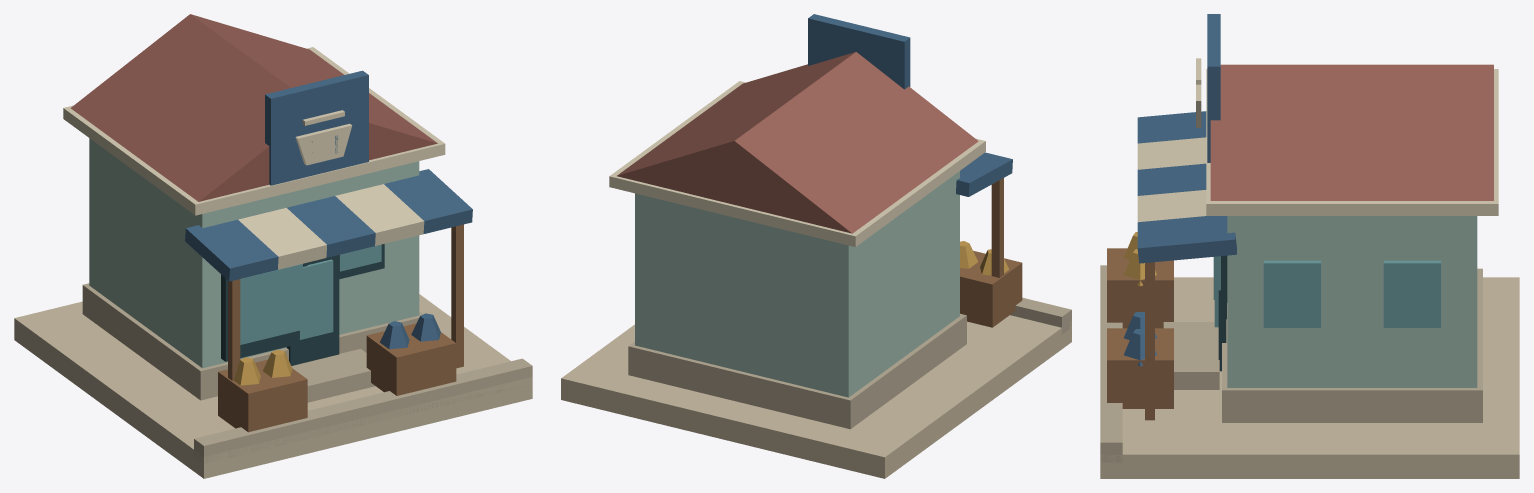
Rendered from grocery-seabreeze-complete.glb.
3 renders of one model, left to right at view 1: azimuth 30°, elevation 25°; view 2: azimuth 150°, elevation 25°; view 3: azimuth 270°, elevation 25°, orthographic. The views are drawn at different scales.
Visible parts, largest first — view 1: grocery; view 2: grocery; view 3: grocery.
Part boxes in pixels (<box>): grocery: <box>14,14,532,478</box>; grocery: <box>561,14,1071,478</box>; grocery: <box>1100,14,1519,478</box>.
Size of the model in its own units: 1.88 by 1.73 by 1.88.
